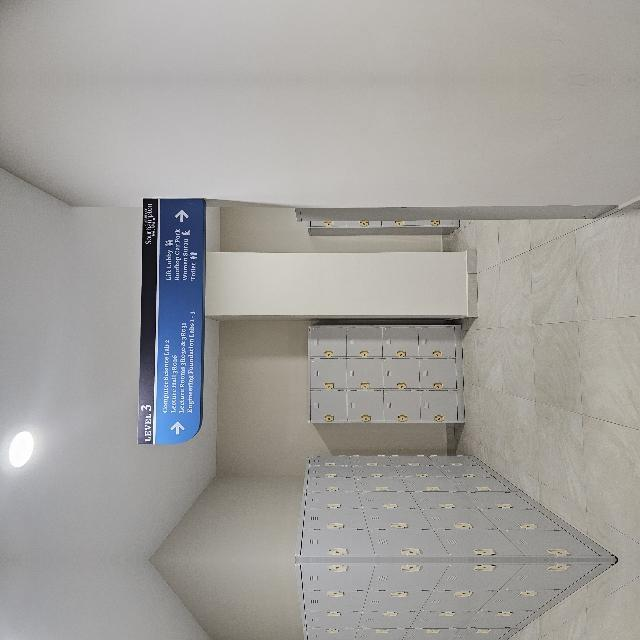obstacle: (0, 367, 111, 640), (0, 471, 111, 640), (134, 386, 238, 546), (134, 574, 237, 640)
